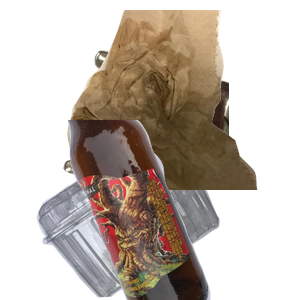glass: (65, 120, 300, 300)
metal: (60, 47, 300, 227)
plastic: (34, 130, 246, 300)
trash: (65, 10, 300, 190)
